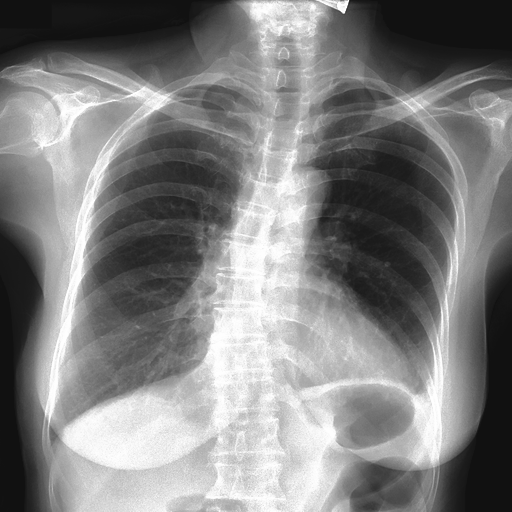Calcification: (396, 369, 440, 435)
Consolidation: (276, 162, 335, 217)
Nodule/Mass: (207, 288, 415, 388)
Other lesion: (201, 135, 302, 368)
Pleural effusion: (401, 374, 436, 412)
